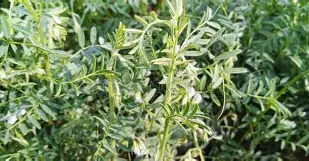crops: (0, 0, 302, 159), (242, 3, 308, 76), (33, 110, 97, 159), (202, 49, 247, 114), (12, 0, 65, 51), (92, 4, 142, 40)
